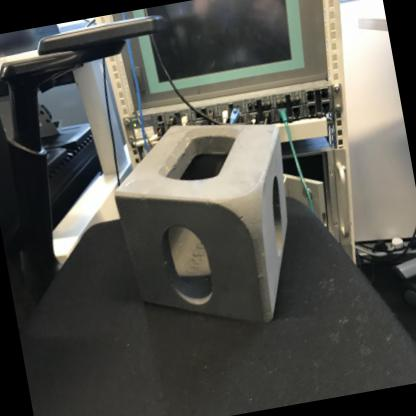CornerCasting: (99, 100, 321, 348)
